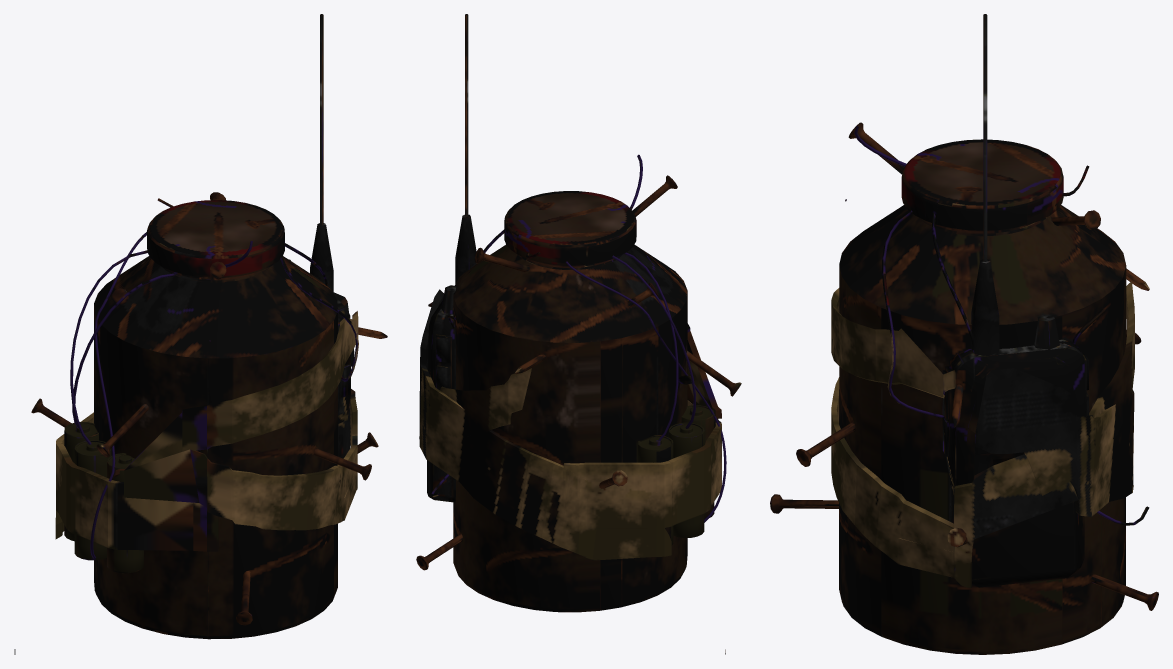
File: BOMB.fbx
The picture shows the model from 3 angles, left to right: view 1: azimuth 30°, elevation 25°; view 2: azimuth 150°, elevation 25°; view 3: azimuth 270°, elevation 25°; orthographic projection. The views are drawn at different scales.
Parts seen in each view (by area): view 1: BOMB; view 2: BOMB; view 3: BOMB.
Boxes of the visible parts, <box> form: BOMB: <box>14,14,387,654</box>; BOMB: <box>416,14,741,654</box>; BOMB: <box>770,14,1158,654</box>.
Bounding box in the file's own units: 297 × 485 × 250.
